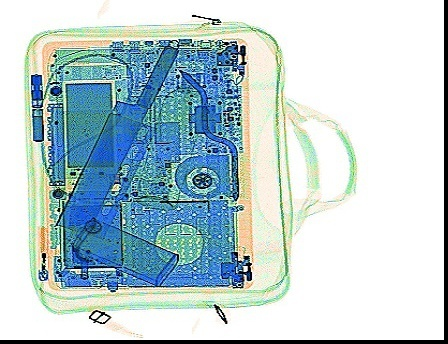knife: (67, 44, 178, 230)
lighter: (37, 224, 49, 281)
zippooil: (71, 216, 179, 286)
